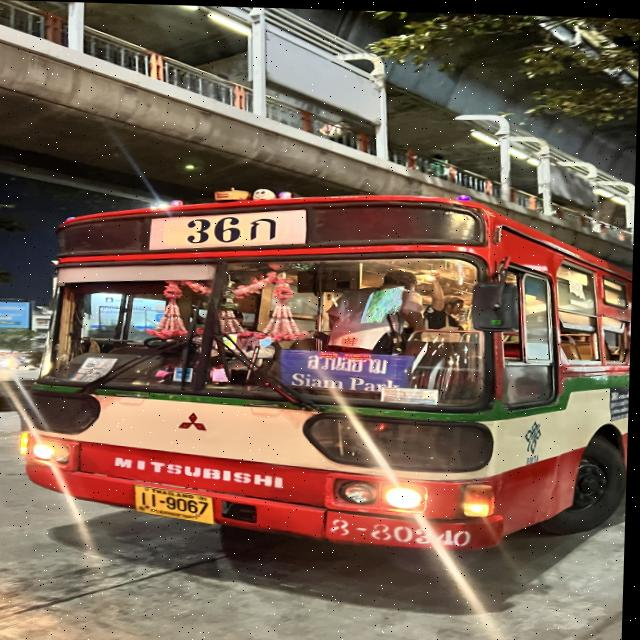BMTA-bus: (11, 192, 635, 550)
Bus Line Number: (170, 213, 287, 242)
Bus Side Number: (322, 515, 478, 546)
Destination Sign: (282, 348, 415, 395)
